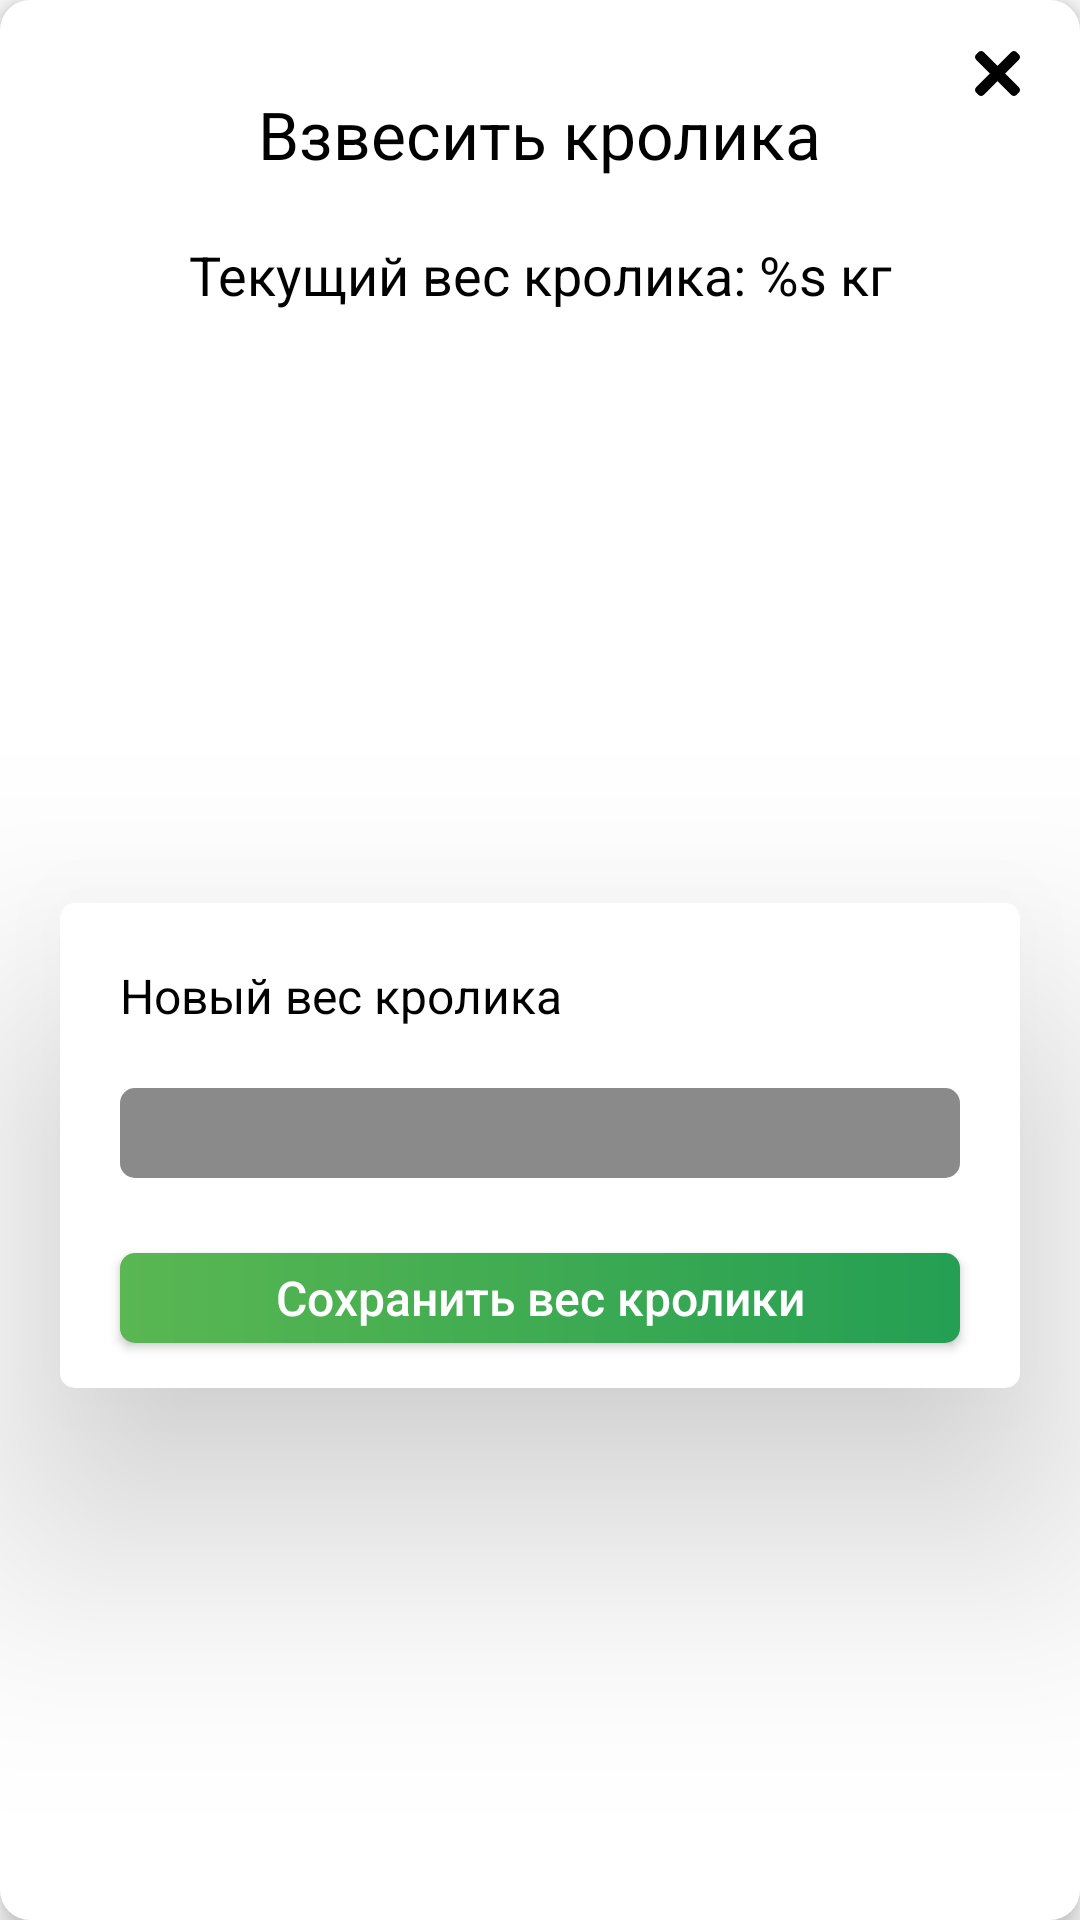

Point at icon controls on the screen. Image size 1080 × 1920, points as (x,y).
close menu: (997,73)
